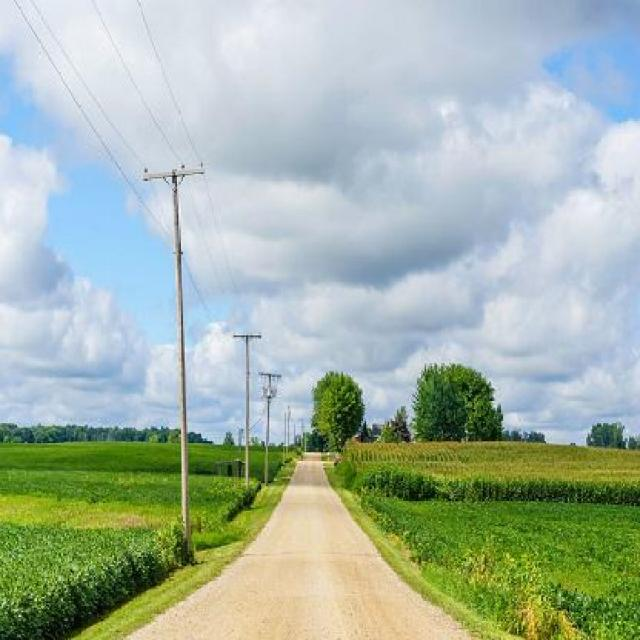pole: (130, 149, 208, 523), (229, 326, 266, 479)
